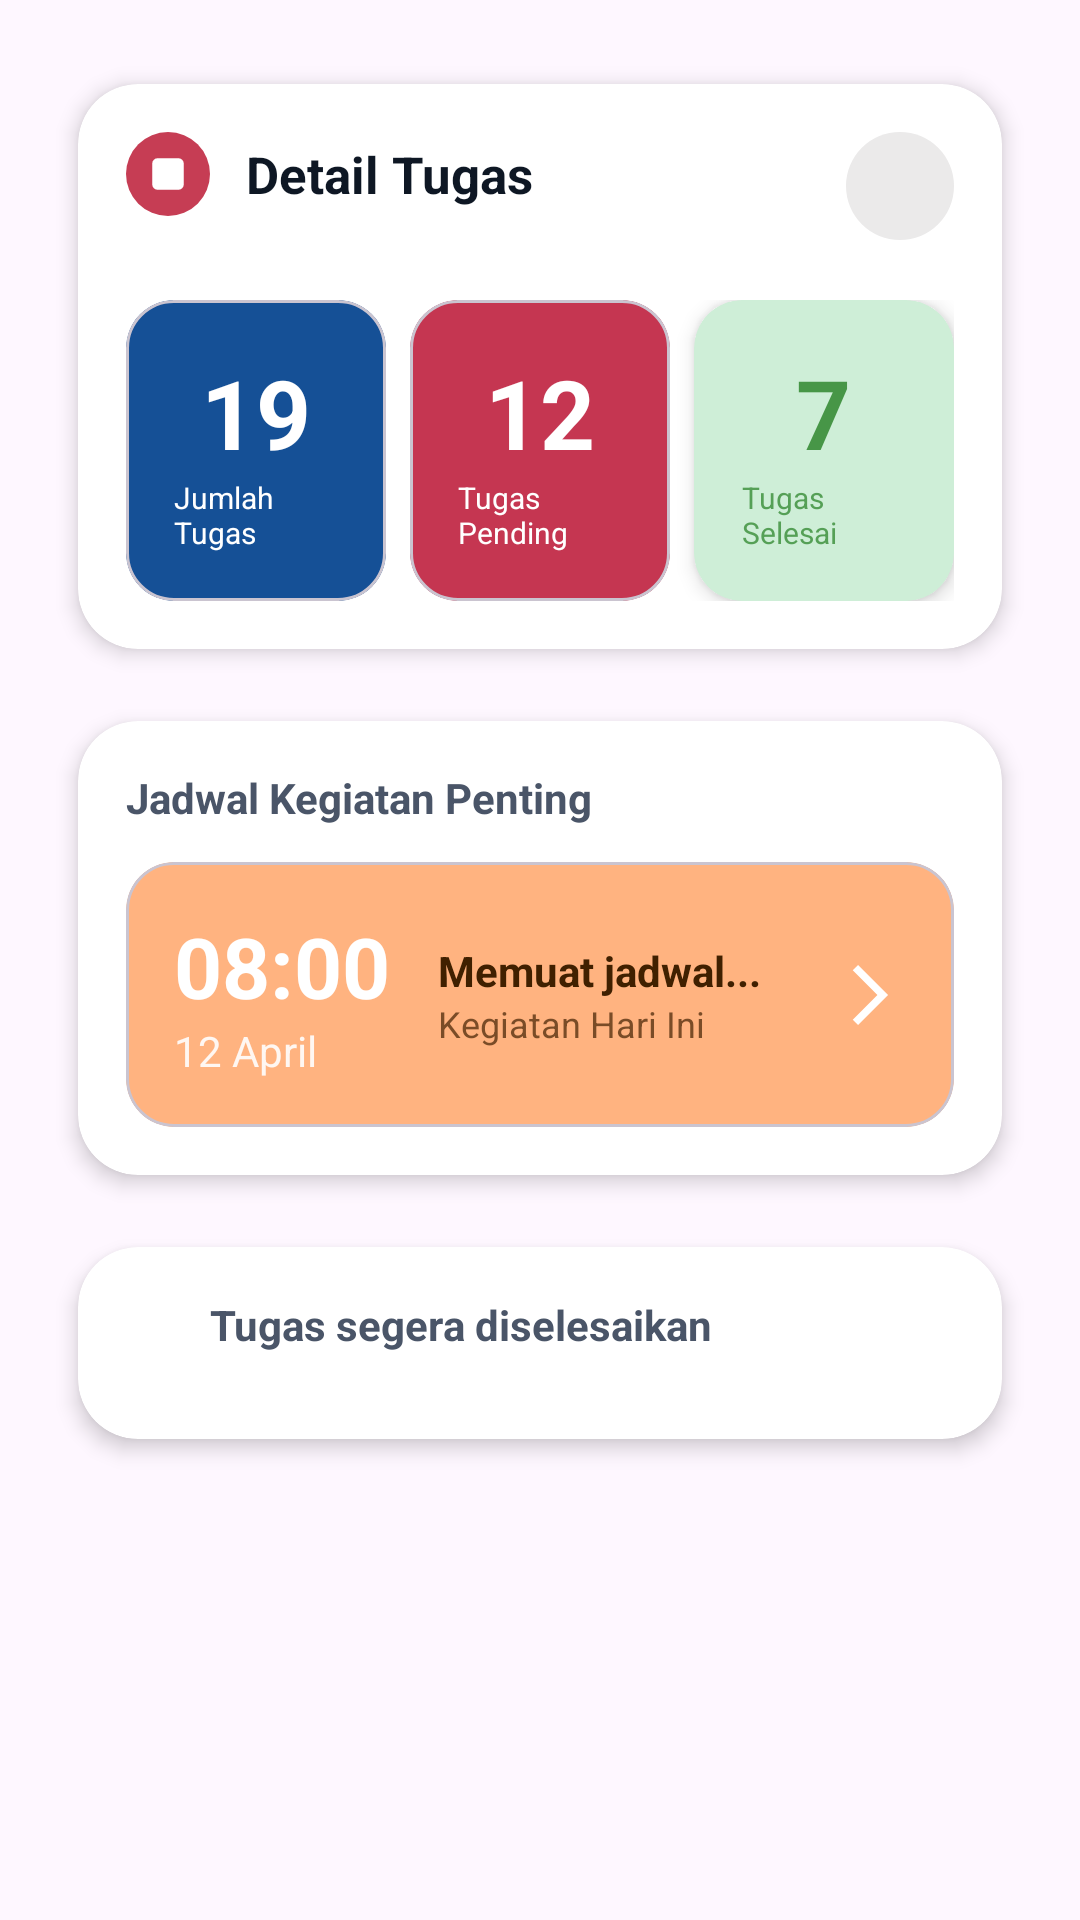

Icon bounding boxes for this 1080px×1920px phone screenshot, format {"left": x1, "top": y1, "right": x2, "bottom": y2}:
chevron right: {"left": 853, "top": 965, "right": 888, "bottom": 1025}
